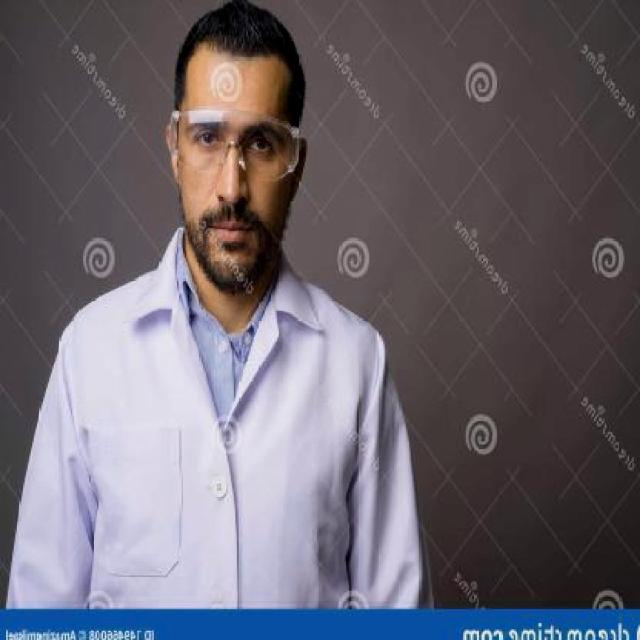face_nomask: (178, 110, 288, 248)
glasses: (168, 103, 306, 185)
head_nohelmet: (176, 0, 309, 86)
person: (5, 0, 417, 609)
